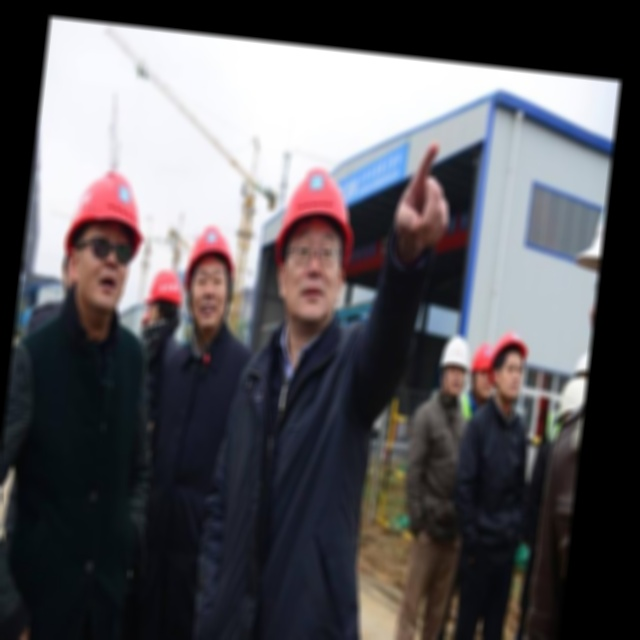Con_Casco: (272, 160, 358, 326)
Sin_Chaleco: (0, 314, 155, 640)
